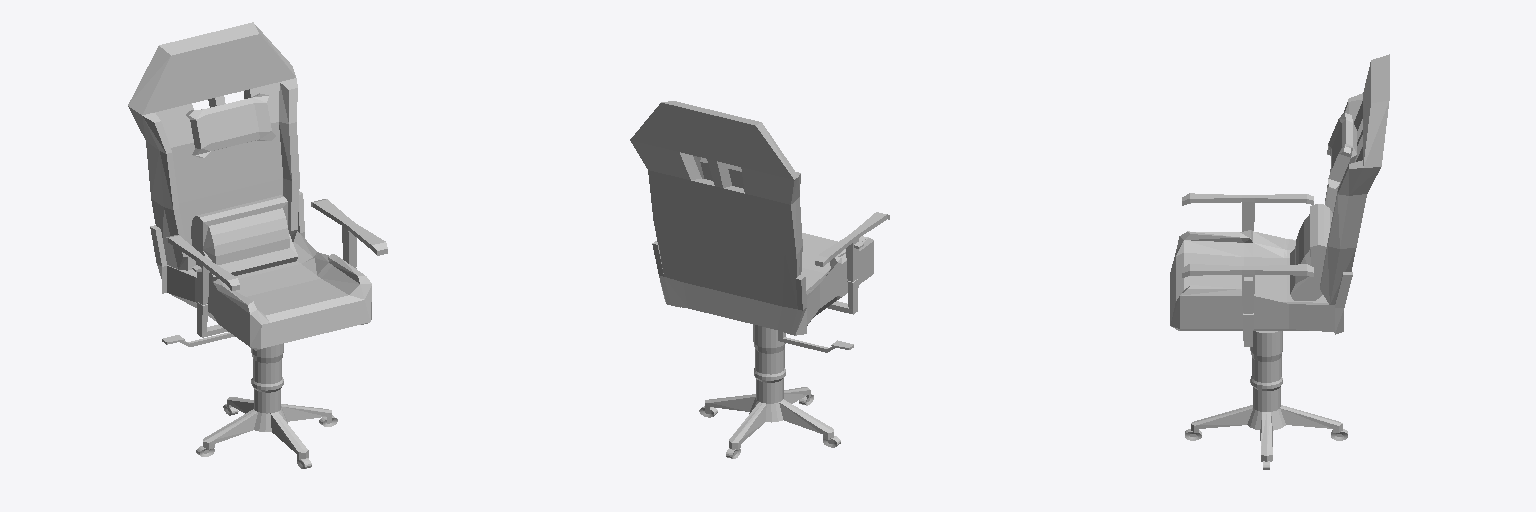
Rendered from Low_Poly_Gaming_Chair.obj.
The picture shows the model from 3 angles: view 1: azimuth 30°, elevation 25°; view 2: azimuth 150°, elevation 25°; view 3: azimuth 270°, elevation 25°; orthographic projection.
Visible parts, largest first — view 1: Gaming_Chair_Seat, Gaming_Chair_Base; view 2: Gaming_Chair_Seat, Gaming_Chair_Base; view 3: Gaming_Chair_Seat, Gaming_Chair_Base.
Part boxes in pixels (bbox=[...]): Gaming_Chair_Seat: bbox=[128, 22, 387, 350]; Gaming_Chair_Base: bbox=[196, 343, 337, 468]; Gaming_Chair_Seat: bbox=[630, 101, 889, 352]; Gaming_Chair_Base: bbox=[699, 324, 840, 458]; Gaming_Chair_Seat: bbox=[1170, 54, 1389, 346]; Gaming_Chair_Base: bbox=[1185, 331, 1347, 469].
Size of the model in its own units: 3.73 by 7.34 by 4.03.